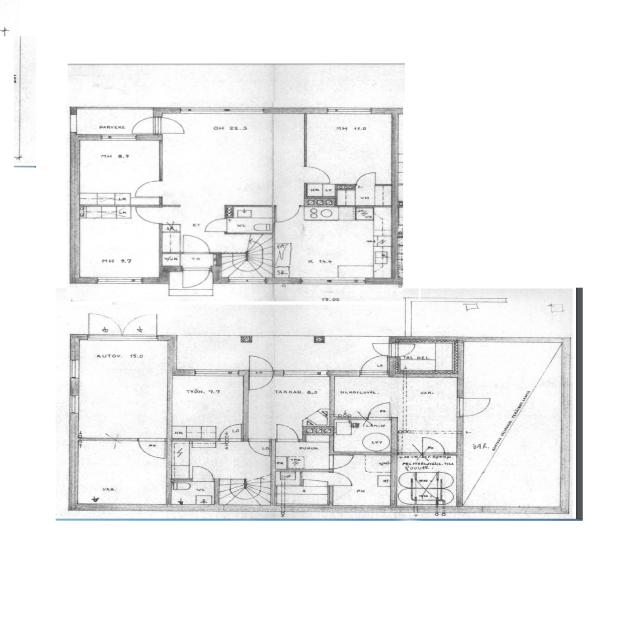door: (123, 315, 157, 343), (89, 315, 122, 343), (361, 353, 387, 377), (456, 398, 490, 416), (183, 266, 209, 289), (153, 118, 186, 134), (129, 118, 162, 134), (183, 234, 210, 253), (250, 370, 273, 392), (250, 355, 273, 377), (304, 166, 332, 182), (135, 181, 162, 197), (276, 205, 299, 222), (136, 208, 162, 223), (277, 424, 298, 442), (370, 344, 401, 356), (390, 344, 420, 356), (193, 464, 213, 482), (220, 424, 241, 441), (249, 438, 269, 455), (205, 218, 228, 232), (356, 171, 376, 186), (330, 473, 353, 485), (330, 456, 353, 468)
